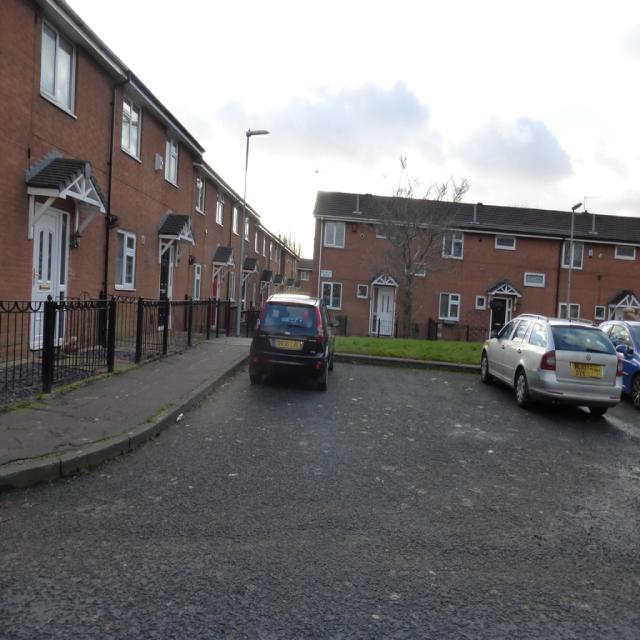car: (480, 294, 637, 419), (246, 287, 336, 385)
